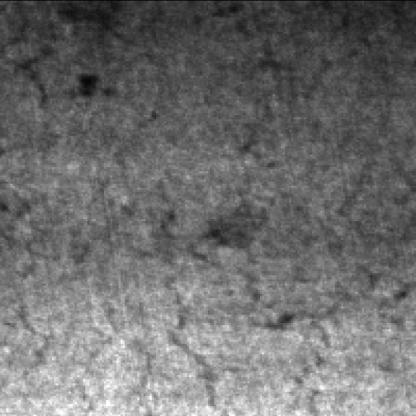crazing: (110, 170, 356, 414)
